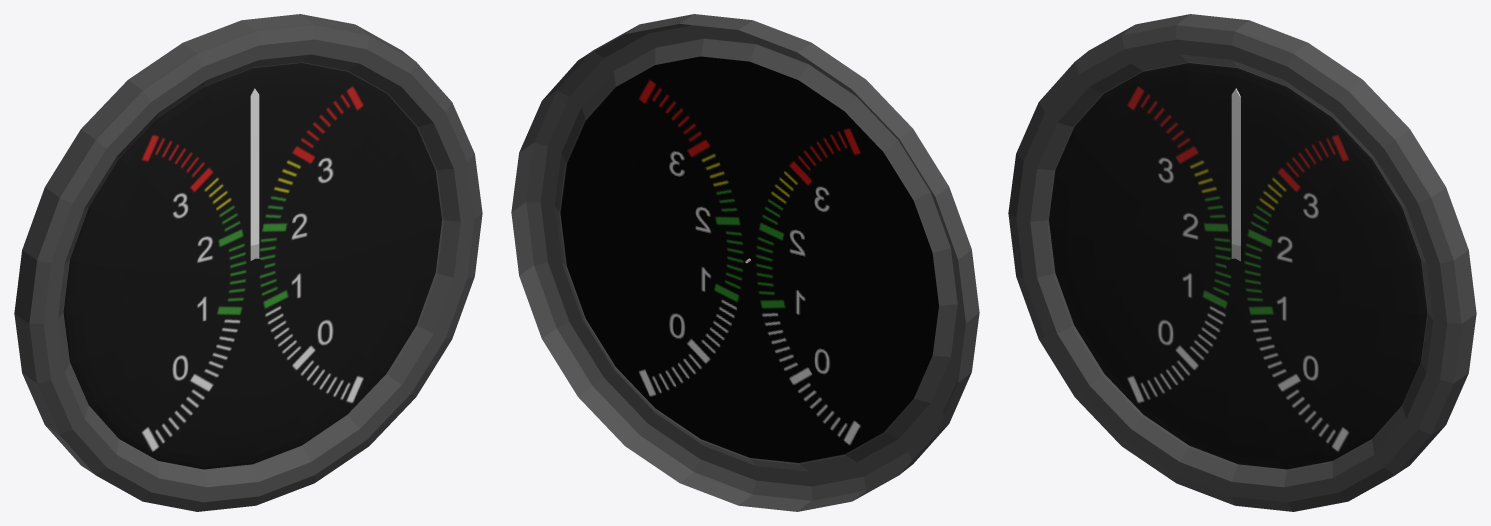
The model's file is Gauge_Climb.obj.
3 renders of one model, left to right at view 1: azimuth 30°, elevation 25°; view 2: azimuth 150°, elevation 25°; view 3: azimuth 330°, elevation 25°, orthographic.
Visible parts, largest first — view 1: Face, Rim, NeedleMain; view 2: Face, Rim; view 3: Face, Rim, NeedleMain.
Part boxes in pixels (box(x1,y1,x2,y2)): Face: box(63, 63, 441, 469); Rim: box(14, 14, 482, 511); NeedleMain: box(250, 88, 259, 245); Face: box(560, 56, 938, 462); Rim: box(511, 14, 979, 511); Face: box(1049, 63, 1427, 469); Rim: box(1008, 14, 1476, 511); NeedleMain: box(1231, 88, 1240, 245).
Size of the model in its own units: 0.0822 by 0.0822 by 0.00794.
